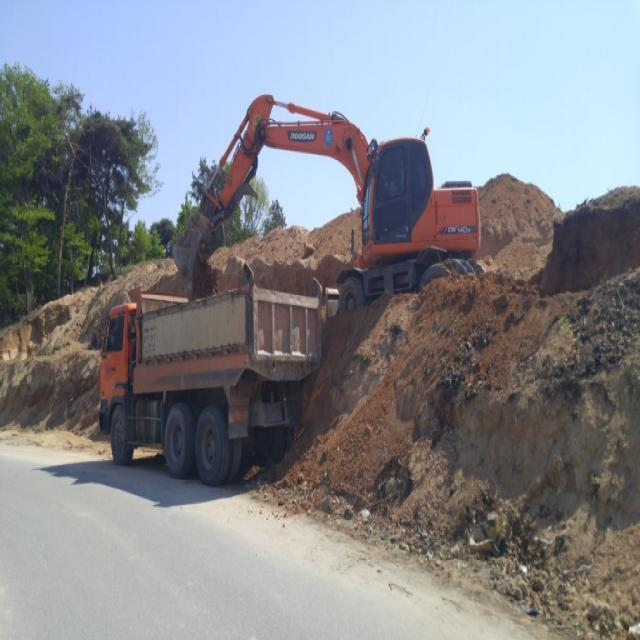dump truck: (99, 263, 322, 487)
excavator: (172, 94, 486, 300)
